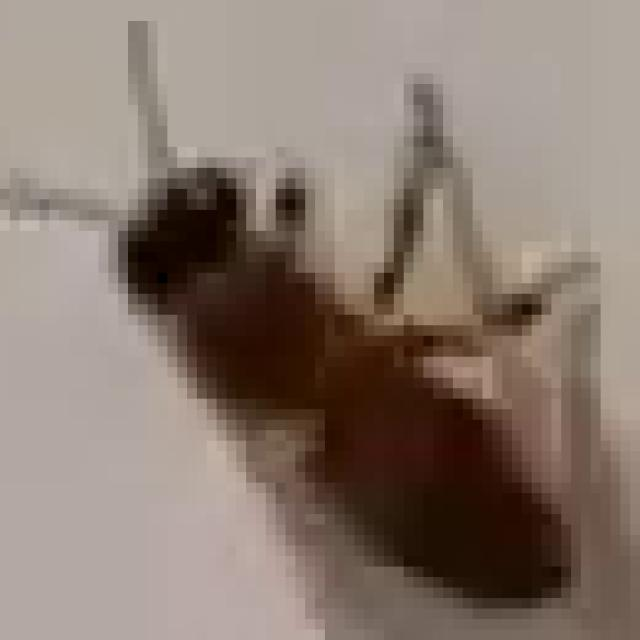honeybee: (86, 112, 612, 630)
